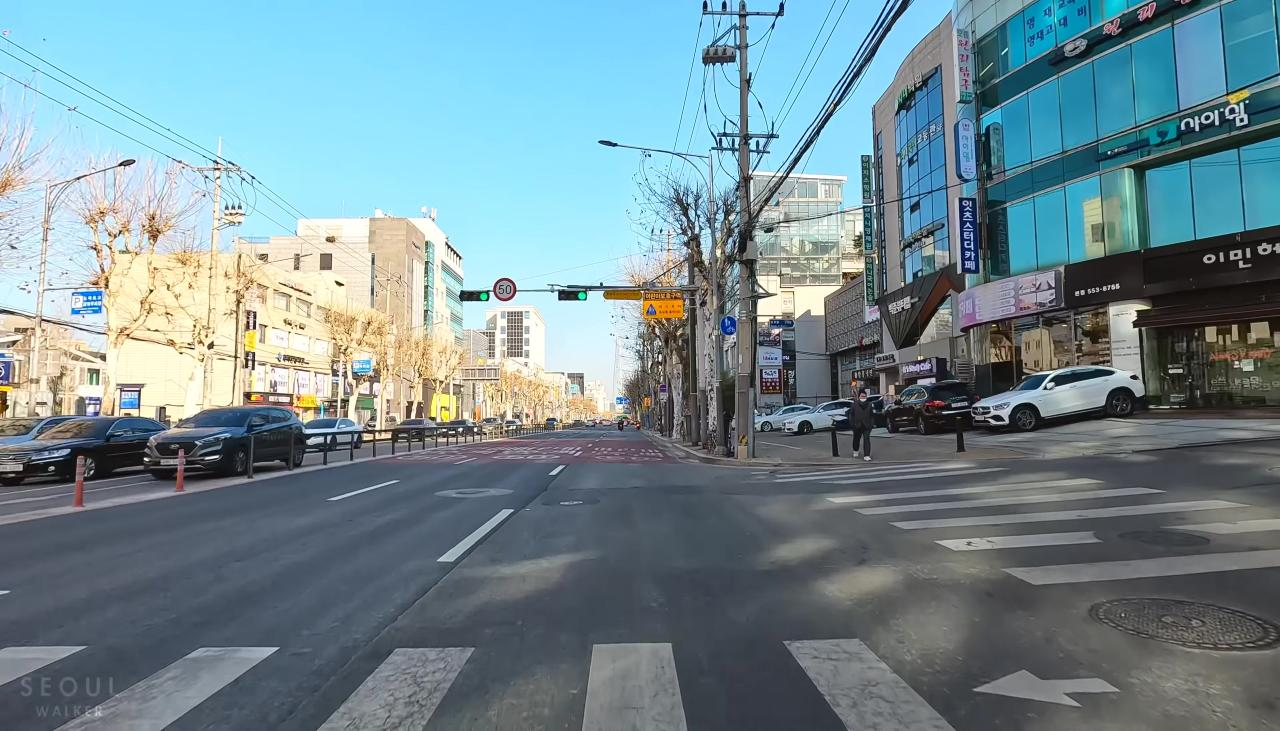Green Light: (479, 291, 488, 301), (577, 291, 586, 301)
